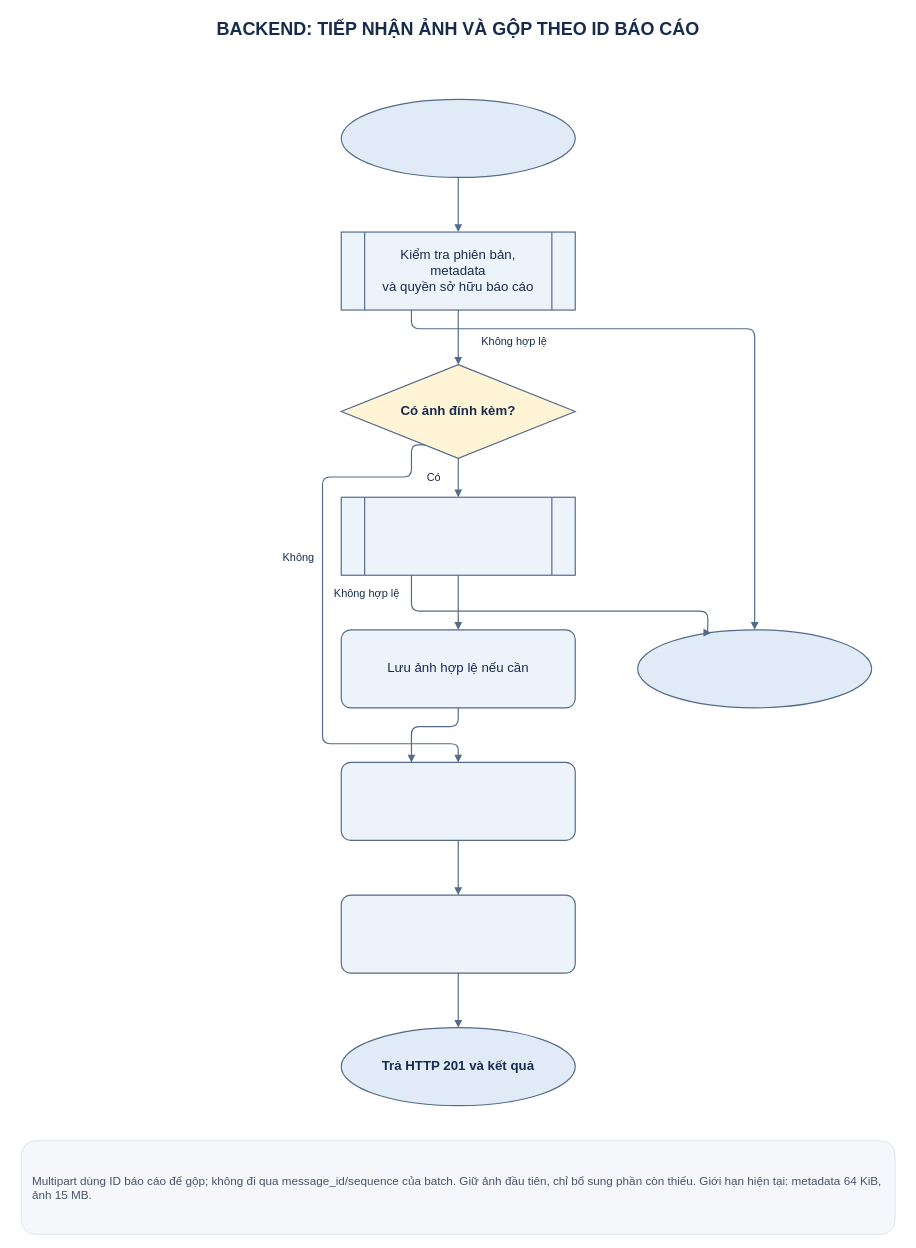
Image size: 916x1248. Some labels were removed from this diagram. Each missing label, with the box of its shape:
Kiểm tra dung lượng, định dạng và hash ảnh: (340, 496, 575, 575)
Lưu nhật ký và phiên bản dữ liệu: (340, 894, 575, 973)
Nhận /api/reports: (340, 99, 575, 178)
Trả lỗi phù hợp Không chấp nhận dữ liệu sai: (637, 629, 872, 708)
Tạo hoặc bổ sung báo cáo Giữ dữ liệu và ảnh đã có: (340, 762, 575, 841)
